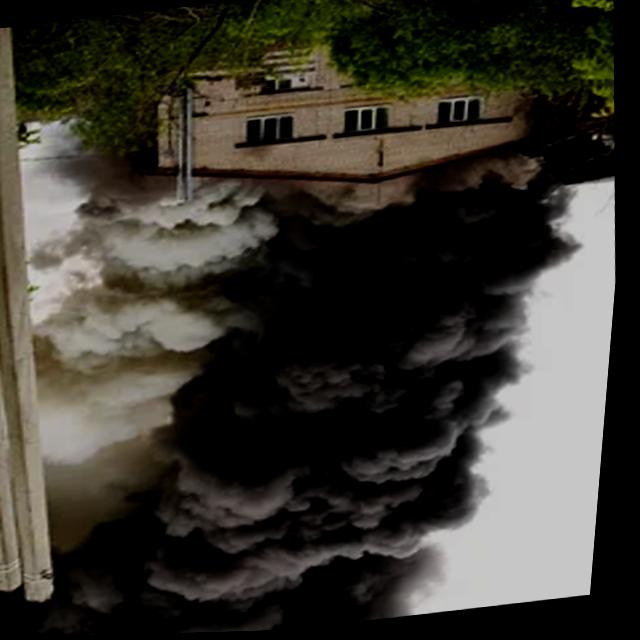Smoke: (22, 147, 630, 639)
